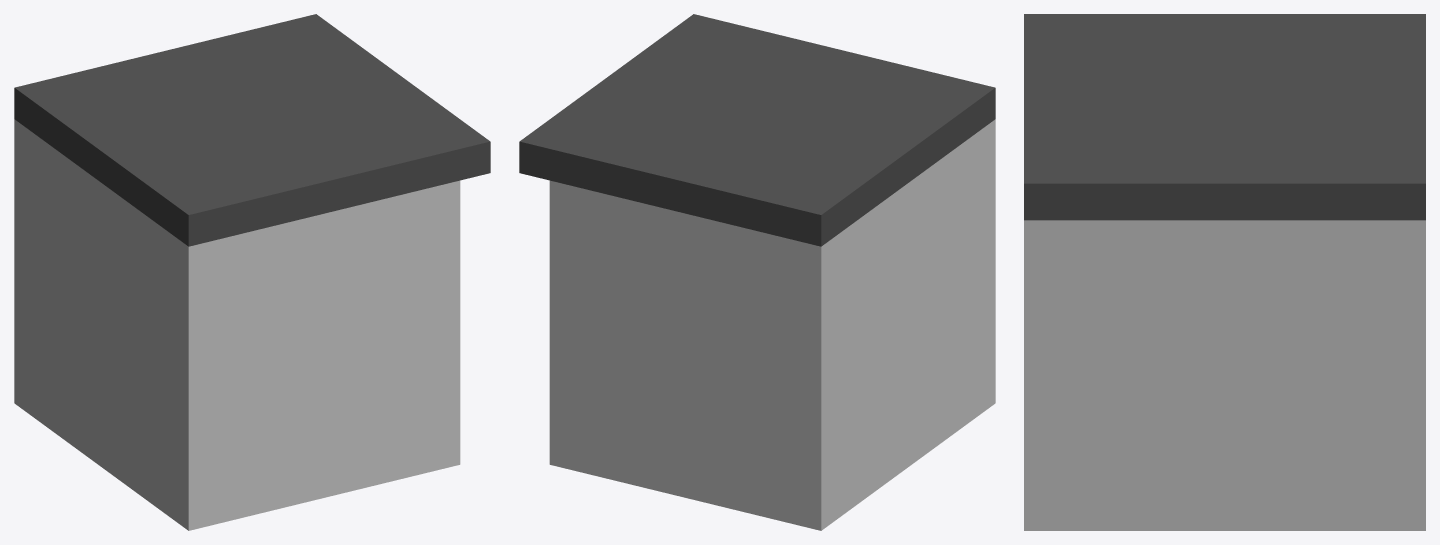
The model's file is Kitchen_Counter_Clear.fbx.
The picture shows the model from 3 angles, left to right: view 1: azimuth 30°, elevation 25°; view 2: azimuth 150°, elevation 25°; view 3: azimuth 270°, elevation 25°; orthographic projection. The views are drawn at different scales.
Visible parts, largest first — view 1: Cube; view 2: Cube; view 3: Cube.
Part boxes in pixels (x1=…): Cube: x1=14, y1=14, x2=490, y2=530; Cube: x1=519, y1=14, x2=995, y2=530; Cube: x1=1024, y1=14, x2=1425, y2=530.
Size of the model in its own units: 200 by 200 by 200.
